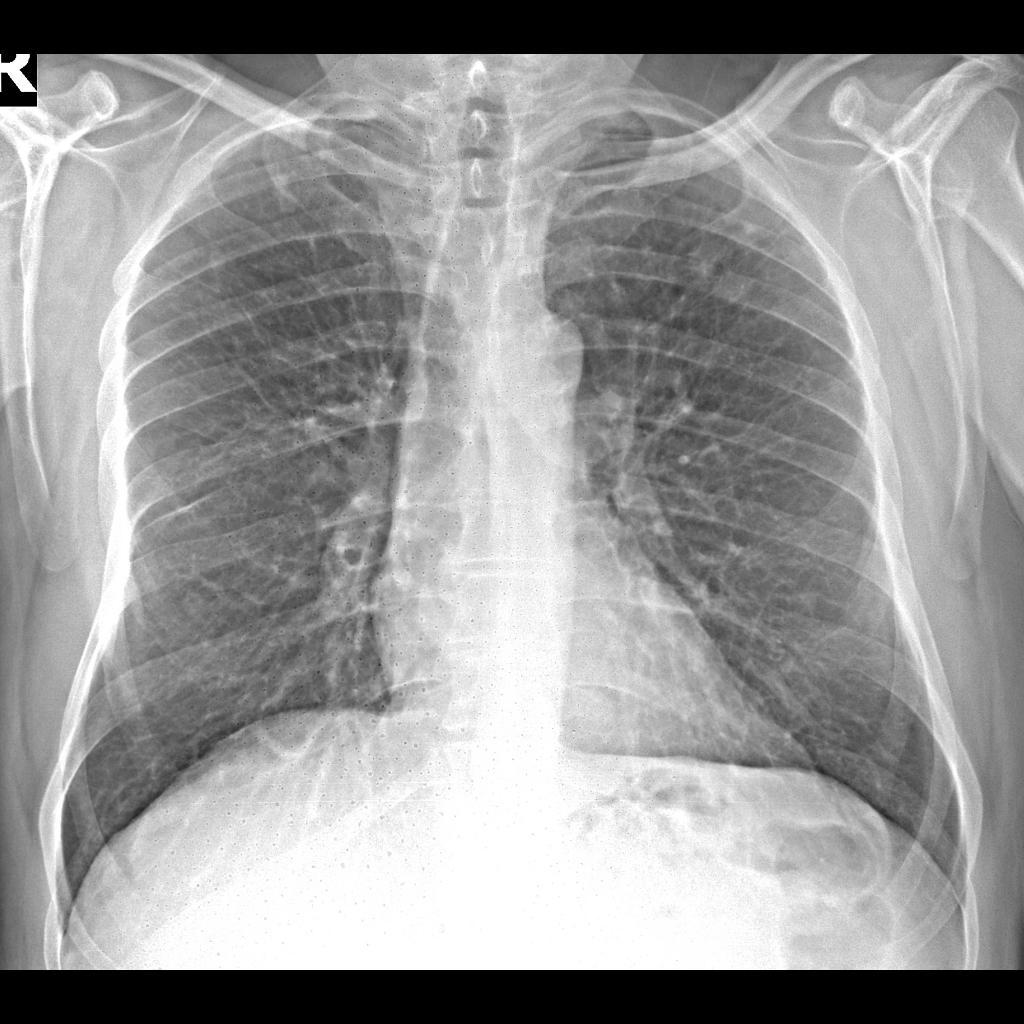Nodule: (709, 259, 763, 319)
